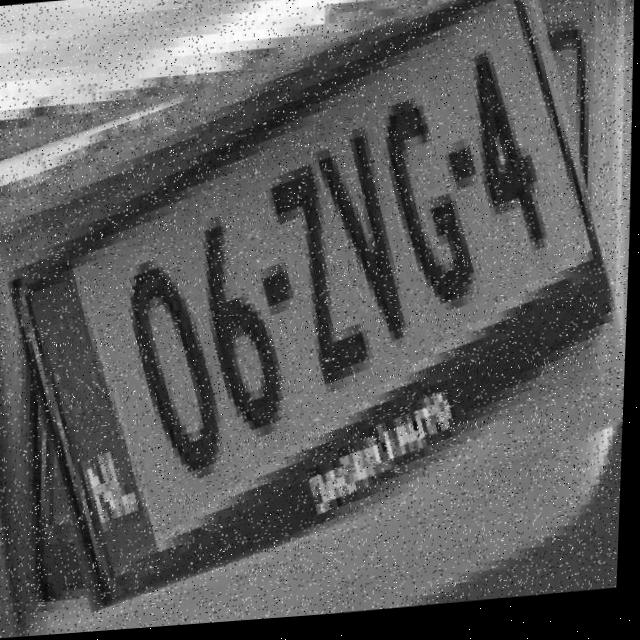LicensePlate: (0, 4, 637, 590)
